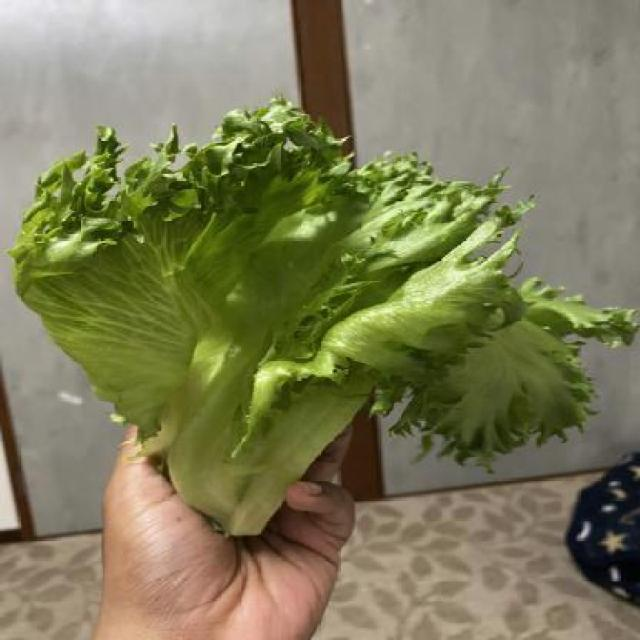Lettuce: (10, 98, 636, 528)
